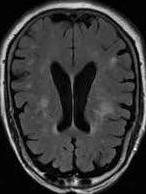Normal_Brain: (1, 1, 146, 194)
